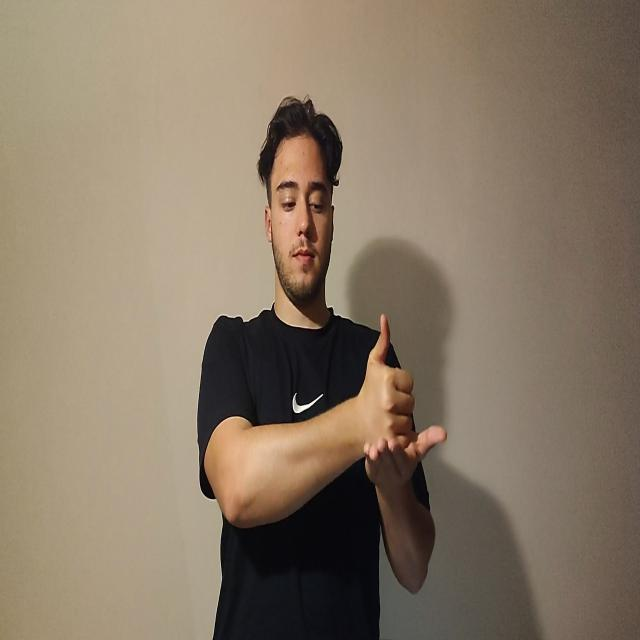help: (358, 317, 449, 494)
